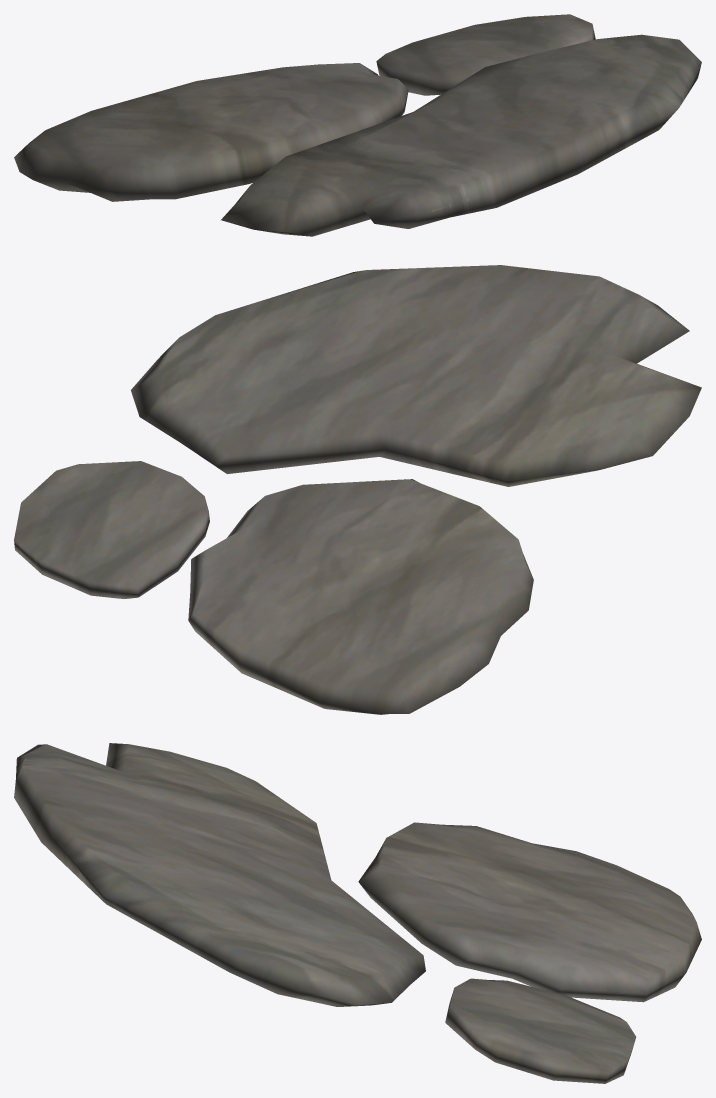
File: FlatStone4Shape.dae
3 renders of one model, top to bottom at view 1: azimuth 30°, elevation 25°; view 2: azimuth 150°, elevation 25°; view 3: azimuth 270°, elevation 25°, orthographic. The views are drawn at different scales.
Parts seen in each view (by area): view 1: FlatStone4; view 2: FlatStone4; view 3: FlatStone4.
Boxes of the visible parts, <box> form: FlatStone4: <box>14,14,701,236</box>; FlatStone4: <box>14,265,701,714</box>; FlatStone4: <box>14,743,701,1083</box>.
Bounding box in the file's own units: 1.64 × 0.6332 × 1.93.
